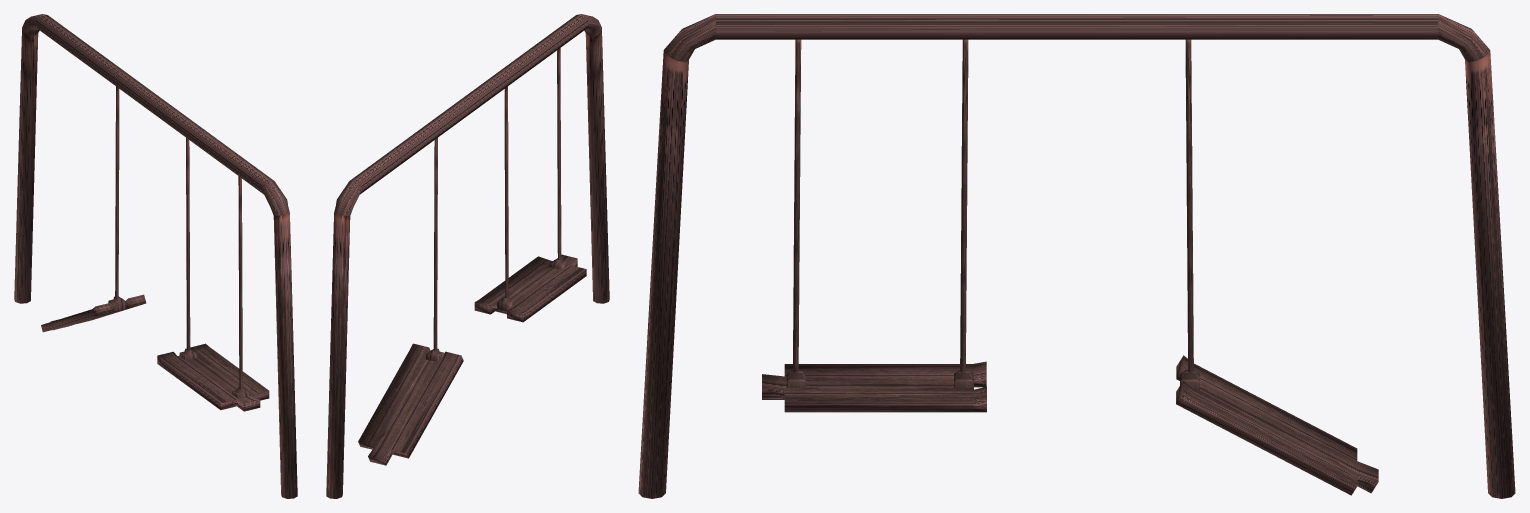
Rendered from Balanca.fbx.
3 views of the same model, side by side, from view 1: azimuth 30°, elevation 25°; view 2: azimuth 150°, elevation 25°; view 3: azimuth 270°, elevation 25° (orthographic). The views are drawn at different scales.
Visible parts, largest first — view 1: Balanca; view 2: Balanca; view 3: Balanca.
Boxes of the visible parts, bbox=[...] form: Balanca: bbox=[14, 14, 297, 498]; Balanca: bbox=[326, 14, 609, 498]; Balanca: bbox=[638, 14, 1515, 498].
Bounding box in the file's own units: 83.98 × 825 × 497.
